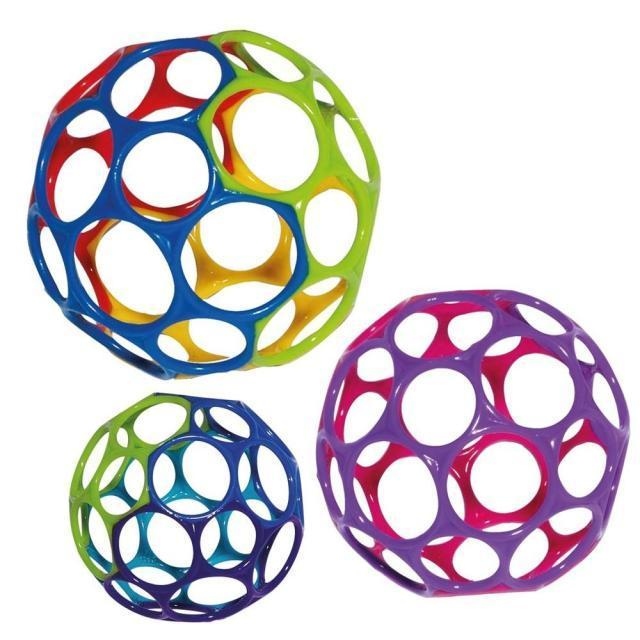hard-toy: (30, 32, 380, 378), (320, 292, 629, 595), (72, 395, 304, 622)
